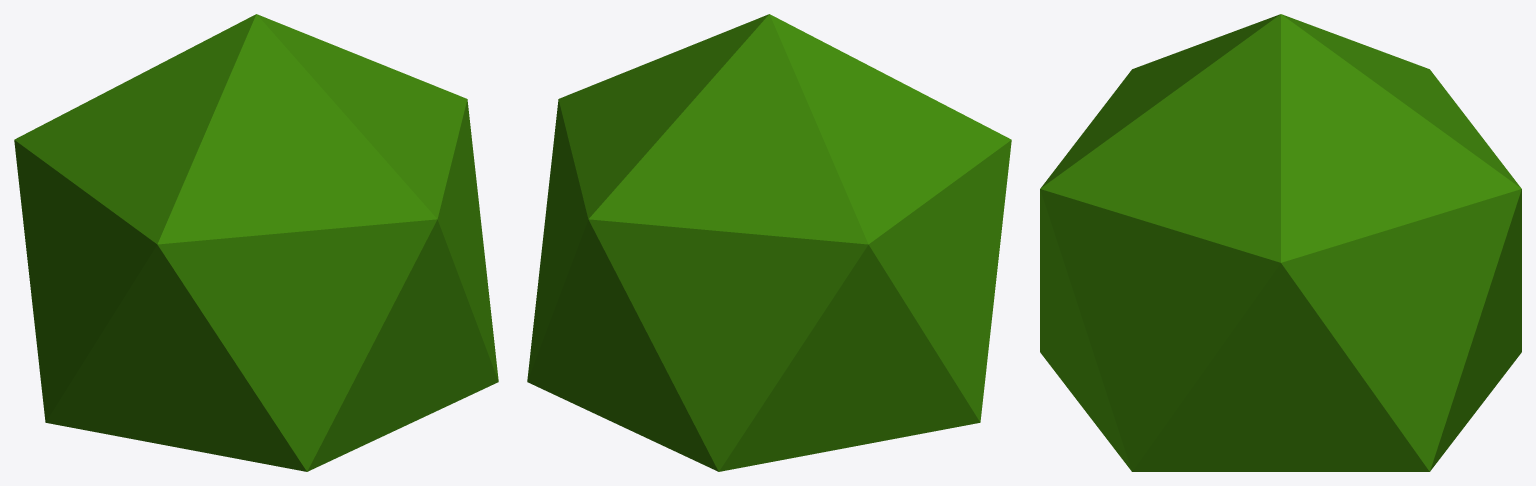
Rendered from Bush_d_01.fbx.
3 views of the same model, side by side, from view 1: azimuth 30°, elevation 25°; view 2: azimuth 150°, elevation 25°; view 3: azimuth 270°, elevation 25° (orthographic). The views are drawn at different scales.
Visible parts, largest first — view 1: Bush_d_01_LOD0; view 2: Bush_d_01_LOD0; view 3: Bush_d_01_LOD0.
Part boxes in pixels (left/top/right/bottom): Bush_d_01_LOD0: left=14, top=14, right=498, bottom=471; Bush_d_01_LOD0: left=527, top=14, right=1011, bottom=471; Bush_d_01_LOD0: left=1040, top=14, right=1521, bottom=471.
Size of what is drawn, in the model's own units: 14.38 by 13.29 by 13.67.
